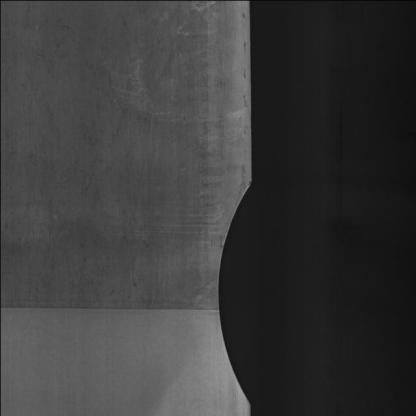crescent_gap: (210, 172, 266, 408)
welding_line: (0, 283, 230, 324)
